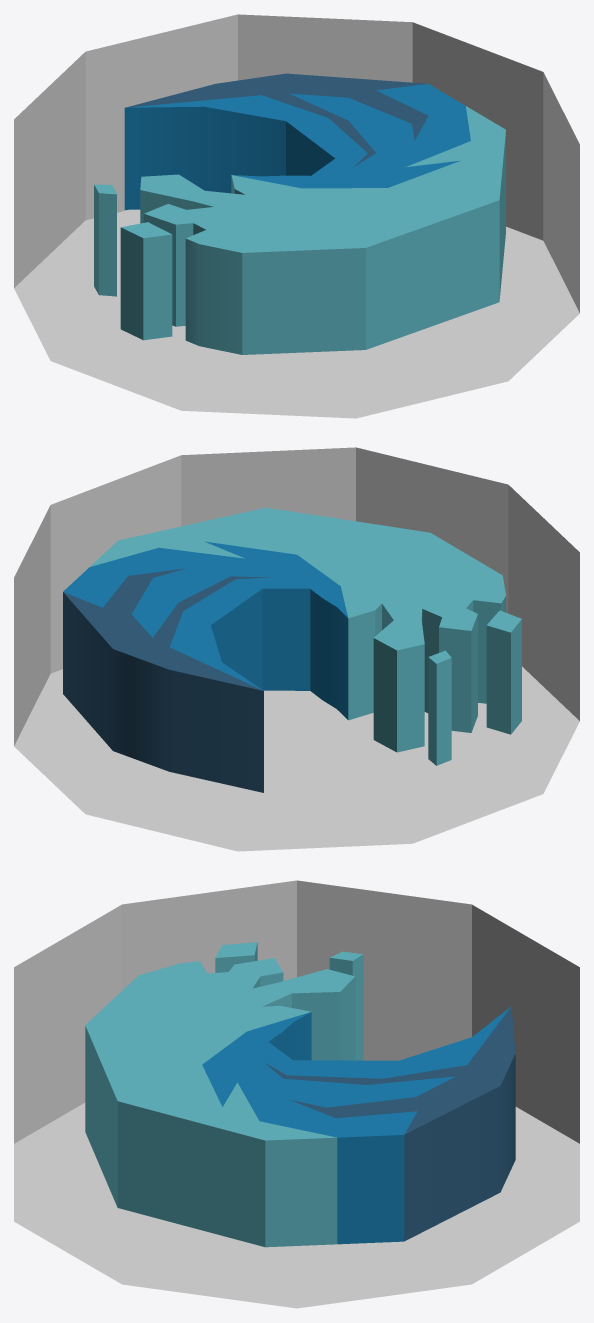
Rendered from SeaweedSmoothieWave.glb.
3 views of the same model, one above another, from view 1: azimuth 30°, elevation 25°; view 2: azimuth 150°, elevation 25°; view 3: azimuth 270°, elevation 25° (orthographic). The views are drawn at different scales.
Parts seen in each view (by area): view 1: SeaweedSmoothieWave; view 2: SeaweedSmoothieWave; view 3: SeaweedSmoothieWave.
Part boxes in pixels (x1=…): SeaweedSmoothieWave: x1=14, y1=14, x2=579, y2=418; SeaweedSmoothieWave: x1=14, y1=447, x2=579, y2=851; SeaweedSmoothieWave: x1=14, y1=880, x2=579, y2=1308.
Size of the model in its own units: 0.1919 by 0.0628 by 0.1825.
